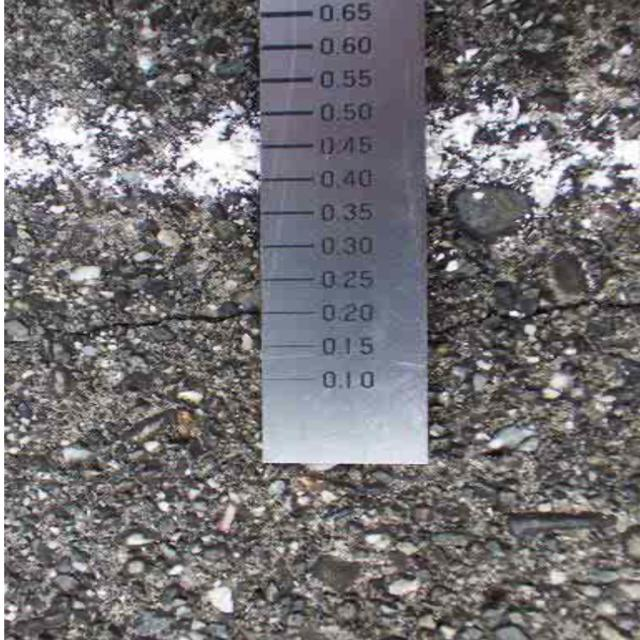crack: (31, 291, 256, 343)
